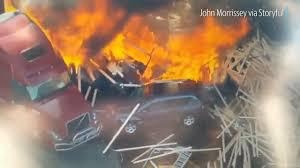fire: (5, 0, 250, 84)
